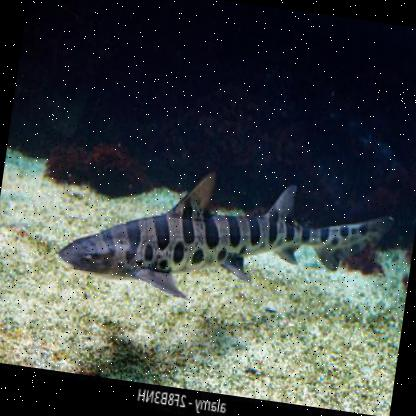zebra_shark: (45, 129, 411, 341)
